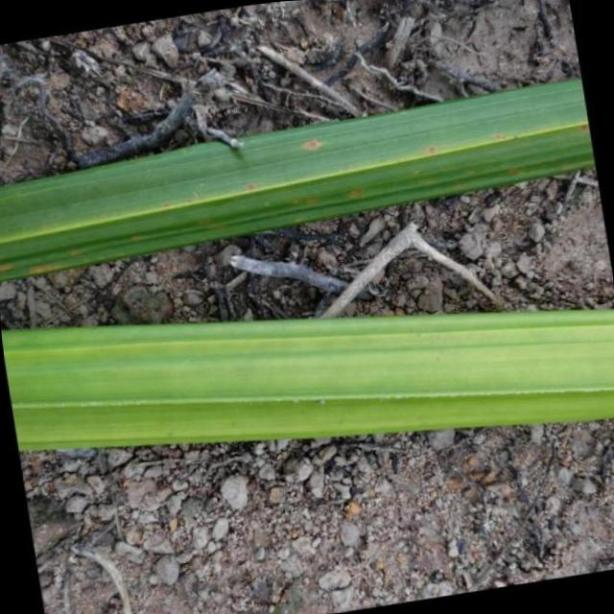nitrogen: (0, 72, 614, 288), (3, 306, 614, 447)
